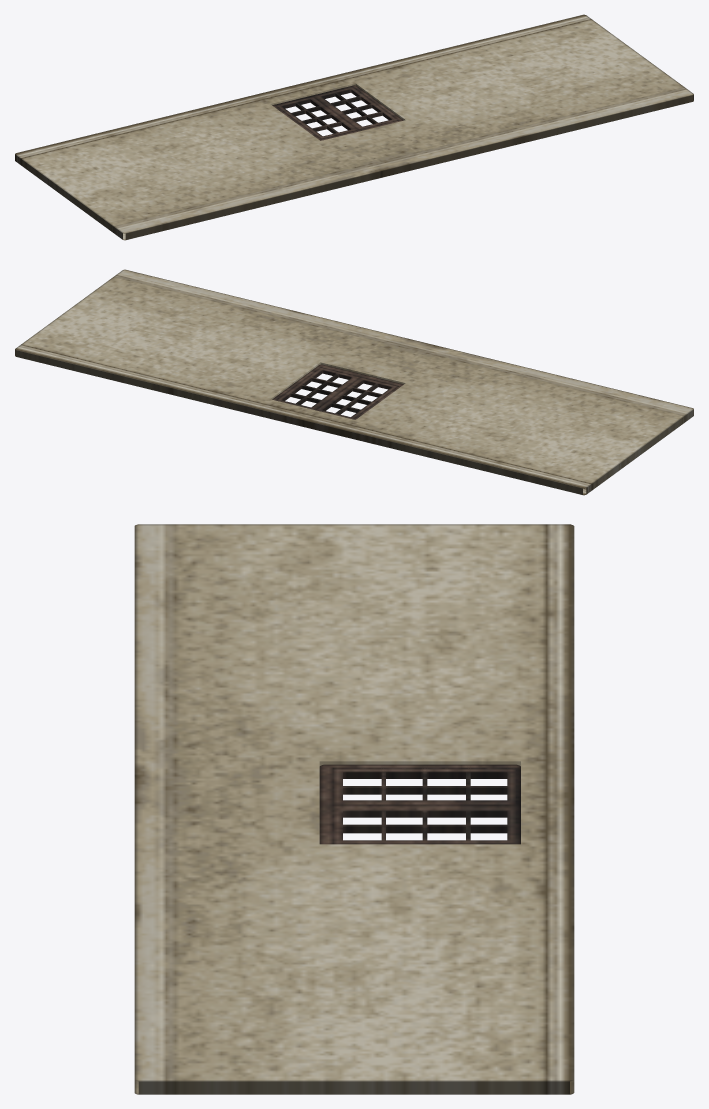
Rendered from SM_EC_House_Wall_Window_0_9x3_0.fbx.
3 renders of one model, top to bottom at view 1: azimuth 30°, elevation 25°; view 2: azimuth 150°, elevation 25°; view 3: azimuth 270°, elevation 25°, orthographic. The views are drawn at different scales.
Parts seen in each view (by area): view 1: SM_EC_House_Wall_Window_0_9x3_0; view 2: SM_EC_House_Wall_Window_0_9x3_0; view 3: SM_EC_House_Wall_Window_0_9x3_0.
Part boxes in pixels (bbox=[...]): SM_EC_House_Wall_Window_0_9x3_0: bbox=[15, 14, 693, 240]; SM_EC_House_Wall_Window_0_9x3_0: bbox=[15, 269, 693, 495]; SM_EC_House_Wall_Window_0_9x3_0: bbox=[134, 524, 574, 1094].
Bounding box in the file's own units: 9 × 3 × 0.1.
